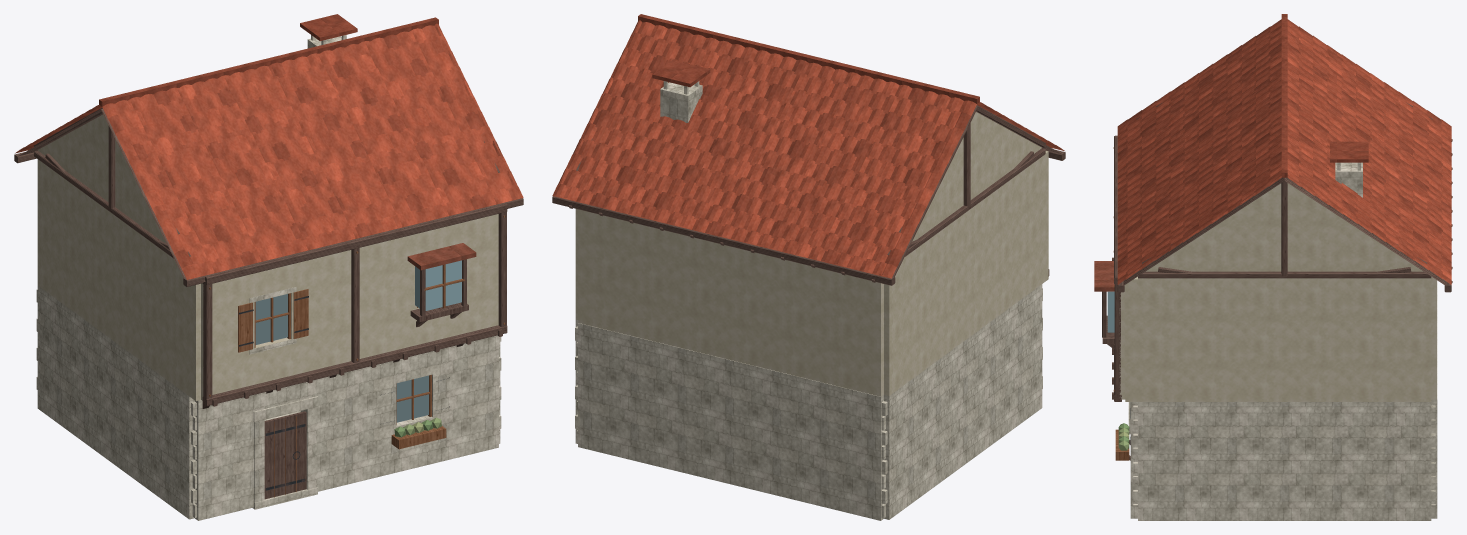
Rendered from B23_vivienda.glb.
3 views of the same model, side by side, from view 1: azimuth 30°, elevation 25°; view 2: azimuth 150°, elevation 25°; view 3: azimuth 270°, elevation 25° (orthographic). The views are drawn at different scales.
Parts seen in each view (by area): view 1: AUR034_B23_clay_tiles, AUR034_B23_upper_plaster, AUR034_B23_lower_masonry, AUR034_B23_gable-1, AUR034_B23_entry_leaf0, AUR034_B23_sill, AUR034_B23_head, AUR034_B23_ridge, AUR034_B23_oriel2_front_glass, AUR034_B23_window1_glazing, AUR034_B23_window0_glazing, AUR034_B23_gable_tie-1 (+15 smaller); view 2: AUR034_B23_clay_tiles, AUR034_B23_lower_masonry, AUR034_B23_upper_plaster, AUR034_B23_gable-1, AUR034_B23_ridge, AUR034_B23_fascia1, AUR034_B23_chimney, AUR034_B23_gable_tie-1, AUR034_B23_dressed_corner_stones, AUR034_B23_cowl, AUR034_B23_roof_sheathing, AUR034_B23_gable_kingpost-1; view 3: AUR034_B23_clay_tiles, AUR034_B23_upper_plaster, AUR034_B23_lower_masonry, AUR034_B23_gable1, AUR034_B23_gable_tie1, AUR034_B23_roof_sheathing, AUR034_B23_ridge, AUR034_B23_dressed_corner_stones, AUR034_B23_cowl, AUR034_B23_post2, AUR034_B23_chimney, AUR034_B23_gable_kingpost1 (+2 smaller).
Part boxes in pixels (left/top/right/bottom): AUR034_B23_clay_tiles: left=15, top=23, right=523, bottom=279; AUR034_B23_upper_plaster: left=37, top=159, right=498, bottom=400; AUR034_B23_lower_masonry: left=37, top=286, right=500, bottom=520; AUR034_B23_gable-1: left=38, top=114, right=166, bottom=243; AUR034_B23_entry_leaf0: left=264, top=411, right=306, bottom=499; AUR034_B23_sill: left=202, top=325, right=507, bottom=406; AUR034_B23_head: left=205, top=203, right=507, bottom=284; AUR034_B23_ridge: left=99, top=17, right=438, bottom=106; AUR034_B23_oriel2_front_glass: left=425, top=260, right=461, bottom=310; AUR034_B23_window1_glazing: left=255, top=294, right=287, bottom=344; AUR034_B23_window0_glazing: left=396, top=375, right=428, bottom=422; AUR034_B23_gable_tie-1: left=34, top=150, right=173, bottom=258; AUR034_B23_clay_tiles: left=552, top=20, right=1064, bottom=278; AUR034_B23_lower_masonry: left=575, top=284, right=1042, bottom=520; AUR034_B23_upper_plaster: left=575, top=151, right=1048, bottom=396; AUR034_B23_gable-1: left=912, top=112, right=1041, bottom=241; AUR034_B23_ridge: left=638, top=14, right=979, bottom=103; AUR034_B23_fascia1: left=552, top=196, right=895, bottom=285; AUR034_B23_chimney: left=660, top=82, right=702, bottom=122; AUR034_B23_gable_tie-1: left=905, top=148, right=1045, bottom=256; AUR034_B23_dressed_corner_stones: left=575, top=288, right=1042, bottom=518; AUR034_B23_cowl: left=652, top=60, right=710, bottom=87; AUR034_B23_roof_sheathing: left=892, top=106, right=1061, bottom=276; AUR034_B23_gable_kingpost-1: left=963, top=123, right=970, bottom=208; AUR034_B23_clay_tiles: left=1117, top=19, right=1451, bottom=284; AUR034_B23_upper_plaster: left=1119, top=276, right=1436, bottom=401; AUR034_B23_lower_masonry: left=1130, top=280, right=1437, bottom=520; AUR034_B23_gable1: left=1138, top=183, right=1431, bottom=279; AUR034_B23_gable_tie1: left=1138, top=271, right=1431, bottom=278; AUR034_B23_roof_sheathing: left=1123, top=177, right=1445, bottom=285; AUR034_B23_ridge: left=1281, top=14, right=1287, bottom=177; AUR034_B23_dressed_corner_stones: left=1133, top=405, right=1435, bottom=517; AUR034_B23_cowl: left=1330, top=141, right=1368, bottom=162; AUR034_B23_post2: left=1114, top=284, right=1120, bottom=398; AUR034_B23_chimney: left=1335, top=162, right=1362, bottom=197; AUR034_B23_gable_kingpost1: left=1281, top=177, right=1287, bottom=276.
Bounding box in the file's own units: 8.96 × 9.36 × 8.55.
Materials: 14 (9 with a texture image).
